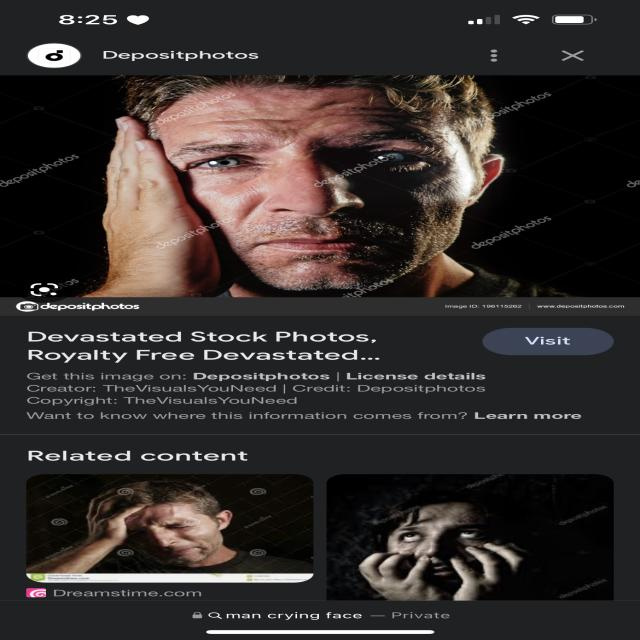sad: (133, 85, 472, 287)
